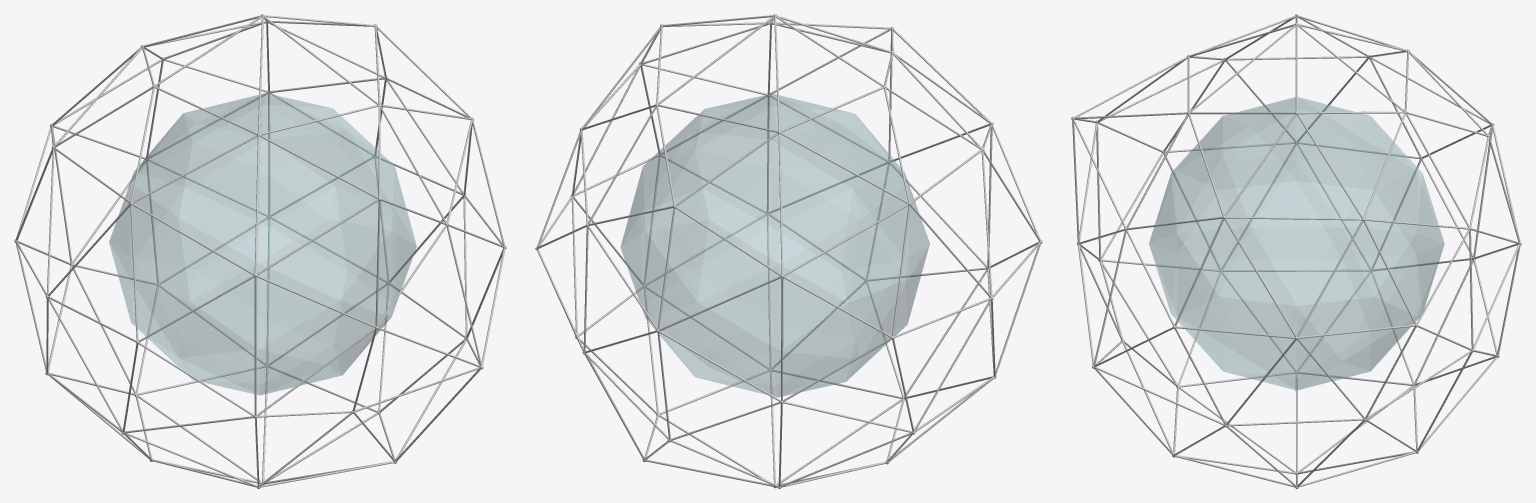
Rendered from filip_collada.dae.
The picture shows the model from 3 angles, left to right: view 1: azimuth 30°, elevation 25°; view 2: azimuth 150°, elevation 25°; view 3: azimuth 270°, elevation 25°; orthographic projection. The views are drawn at different scales.
Parts seen in each view (by area): view 1: Sphere, Sphere.1; view 2: Sphere, Sphere.1; view 3: Sphere, Sphere.1.
Part boxes in pixels (x1,y1,x2,y2): Sphere: (109, 93, 416, 395); Sphere.1: (14, 14, 506, 488); Sphere: (620, 93, 929, 397); Sphere.1: (535, 14, 1042, 488); Sphere: (1149, 97, 1444, 390); Sphere.1: (1071, 14, 1521, 488).
Size of what is drawn, in the model's own units: 8490 by 9099 by 8212.
